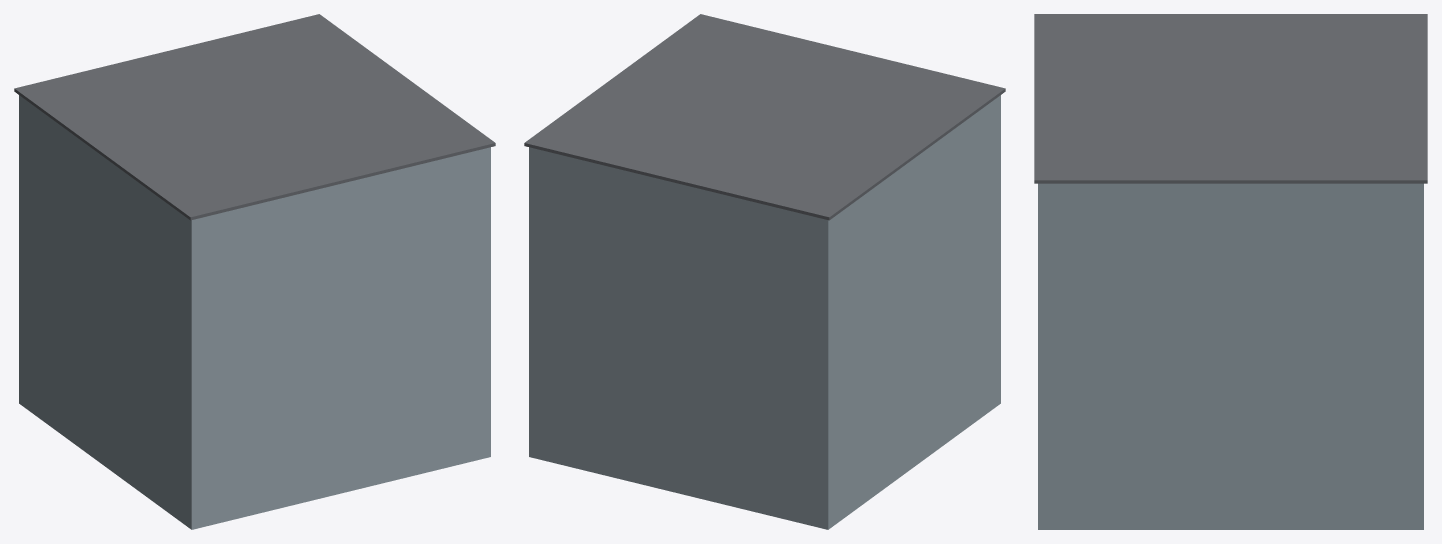
File: block_grey.fbx
3 renders of one model, left to right at view 1: azimuth 30°, elevation 25°; view 2: azimuth 150°, elevation 25°; view 3: azimuth 270°, elevation 25°, orthographic. The views are drawn at different scales.
Parts seen in each view (by area): view 1: block_grey; view 2: block_grey; view 3: block_grey.
Boxes of the visible parts, x1,y1,x2,y2 form: block_grey: (14,14,495,529); block_grey: (524,14,1005,529); block_grey: (1034,14,1427,529).
Bounding box in the file's own units: 1.02 × 1 × 1.02.
